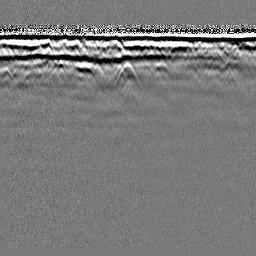cavity: (114, 61, 140, 89)
